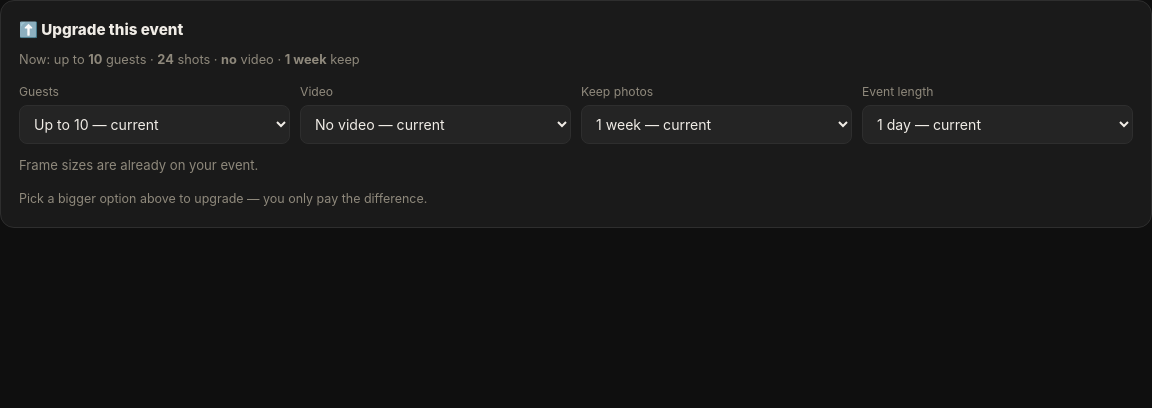
Test: the upgrade breakdown tells a host what they already have › tells the changing line apart from the ones you already have
Select "Up to 25 — +$5.00" in the dropdown labelled "Guests" at (154, 125), box [19,105,290,144]
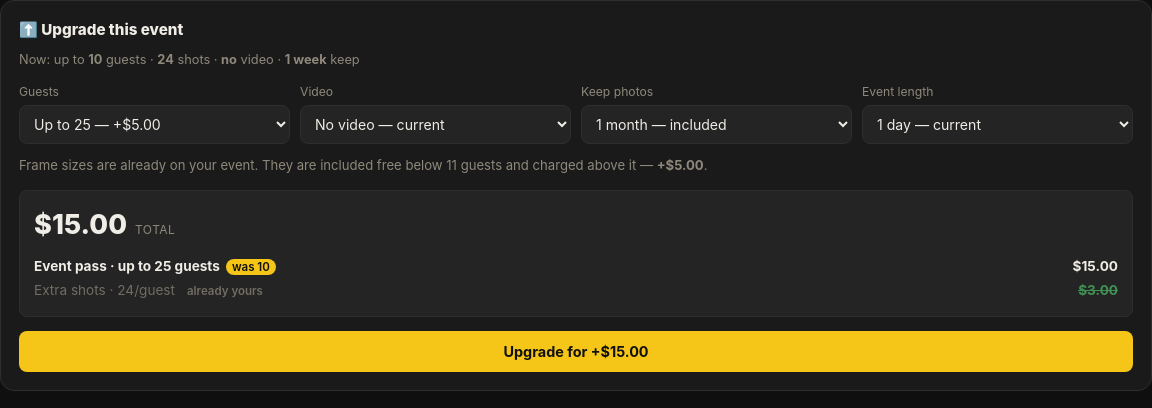
Expected: the list item that starts with "Event pass · up to 25 guests" is shown, [34,254,1118,278]
Expected: the text "was 10" is shown, [226,259,276,275]
